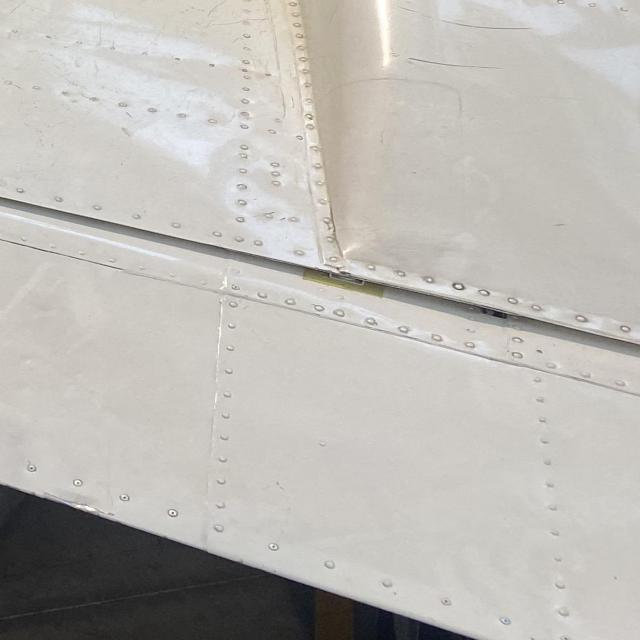Paint-off: (14, 489, 142, 530)
Scratch: (394, 2, 537, 44), (377, 52, 518, 83)
